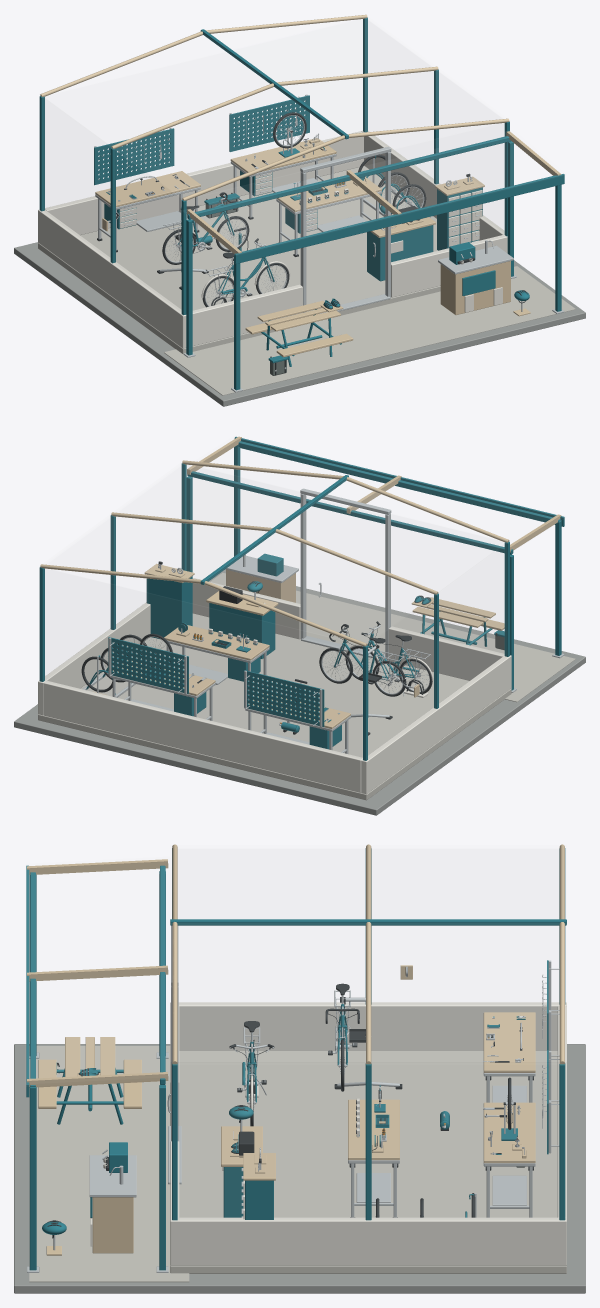
3 renders of one model, top to bottom at view 1: azimuth 30°, elevation 25°; view 2: azimuth 150°, elevation 25°; view 3: azimuth 270°, elevation 25°, orthographic. The views are drawn at different scales.
Visible parts, largest first — view 1: 001-roofed-bicycle-shop/1, 001-roofed-bicycle-shop/0, 000-shop-terrace-base/1, 003-covered-repair-cafe-terrace/0, 000-shop-terrace-base/0, 001-roofed-bicycle-shop/4, 001-roofed-bicycle-shop/3, 007-perforated-tool-wall/0, 006-perforated-tool-wall/0, 002-glazed-shop-entrance/0, 060-cafe-bench-table/0, 059-cafe-service-counter/0 (+16 smaller); view 2: 001-roofed-bicycle-shop/1, 001-roofed-bicycle-shop/0, 000-shop-terrace-base/0, 003-covered-repair-cafe-terrace/0, 000-shop-terrace-base/1, 001-roofed-bicycle-shop/3, 001-roofed-bicycle-shop/4, 006-perforated-tool-wall/0, 007-perforated-tool-wall/0, 002-glazed-shop-entrance/0, 045-parts-drawer-cabinet/0, 048-repair-booking-counter/0 (+19 smaller); view 3: 001-roofed-bicycle-shop/0, 001-roofed-bicycle-shop/1, 000-shop-terrace-base/1, 000-shop-terrace-base/0, 001-roofed-bicycle-shop/3, 003-covered-repair-cafe-terrace/0, 003-covered-repair-cafe-terrace/2, 001-roofed-bicycle-shop/4, 060-cafe-bench-table/0, 004-mechanic-workbench/2, 005-mechanic-workbench/2, 059-cafe-service-counter/0 (+15 smaller).
Part boxes in pixels (box(x1,y1,x2,y2)): 001-roofed-bicycle-shop/1: box(38, 130, 507, 348); 001-roofed-bicycle-shop/0: box(38, 166, 440, 354); 000-shop-terrace-base/1: box(164, 266, 575, 395); 003-covered-repair-cafe-terrace/0: box(186, 136, 564, 390); 000-shop-terrace-base/0: box(14, 242, 585, 406); 001-roofed-bicycle-shop/4: box(40, 14, 509, 200); 001-roofed-bicycle-shop/3: box(39, 17, 509, 315); 007-perforated-tool-wall/0: box(229, 95, 309, 151); 006-perforated-tool-wall/0: box(94, 128, 174, 185); 002-glazed-shop-entrance/0: box(300, 146, 391, 313); 060-cafe-bench-table/0: box(245, 300, 353, 357); 059-cafe-service-counter/0: box(440, 261, 510, 314); 001-roofed-bicycle-shop/1: box(38, 578, 511, 794); 001-roofed-bicycle-shop/0: box(38, 613, 511, 800); 000-shop-terrace-base/0: box(14, 569, 585, 815); 003-covered-repair-cafe-terrace/0: box(186, 436, 564, 690); 000-shop-terrace-base/1: box(210, 572, 575, 702); 001-roofed-bicycle-shop/3: box(39, 463, 509, 760); 001-roofed-bicycle-shop/4: box(40, 460, 509, 646); 006-perforated-tool-wall/0: box(244, 670, 324, 726); 007-perforated-tool-wall/0: box(108, 637, 188, 693); 002-glazed-shop-entrance/0: box(300, 488, 391, 660); 045-parts-drawer-cabinet/0: box(146, 576, 192, 639); 048-repair-booking-counter/0: box(209, 603, 275, 658); 001-roofed-bicycle-shop/0: box(170, 1050, 566, 1273); 001-roofed-bicycle-shop/1: box(170, 1002, 566, 1265); 000-shop-terrace-base/1: box(29, 1046, 189, 1282); 000-shop-terrace-base/0: box(14, 1044, 585, 1293); 001-roofed-bicycle-shop/3: box(170, 848, 566, 1220); 003-covered-repair-cafe-terrace/0: box(26, 865, 165, 1270); 003-covered-repair-cafe-terrace/2: box(27, 859, 168, 1087); 001-roofed-bicycle-shop/4: box(172, 844, 564, 1064); 060-cafe-bench-table/0: box(38, 1037, 141, 1108); 004-mechanic-workbench/2: box(483, 1012, 535, 1072); 005-mechanic-workbench/2: box(483, 1102, 535, 1163); 059-cafe-service-counter/0: box(92, 1197, 133, 1253).
Size of the model in its own units: 7.5 by 3.66 by 7.5.
